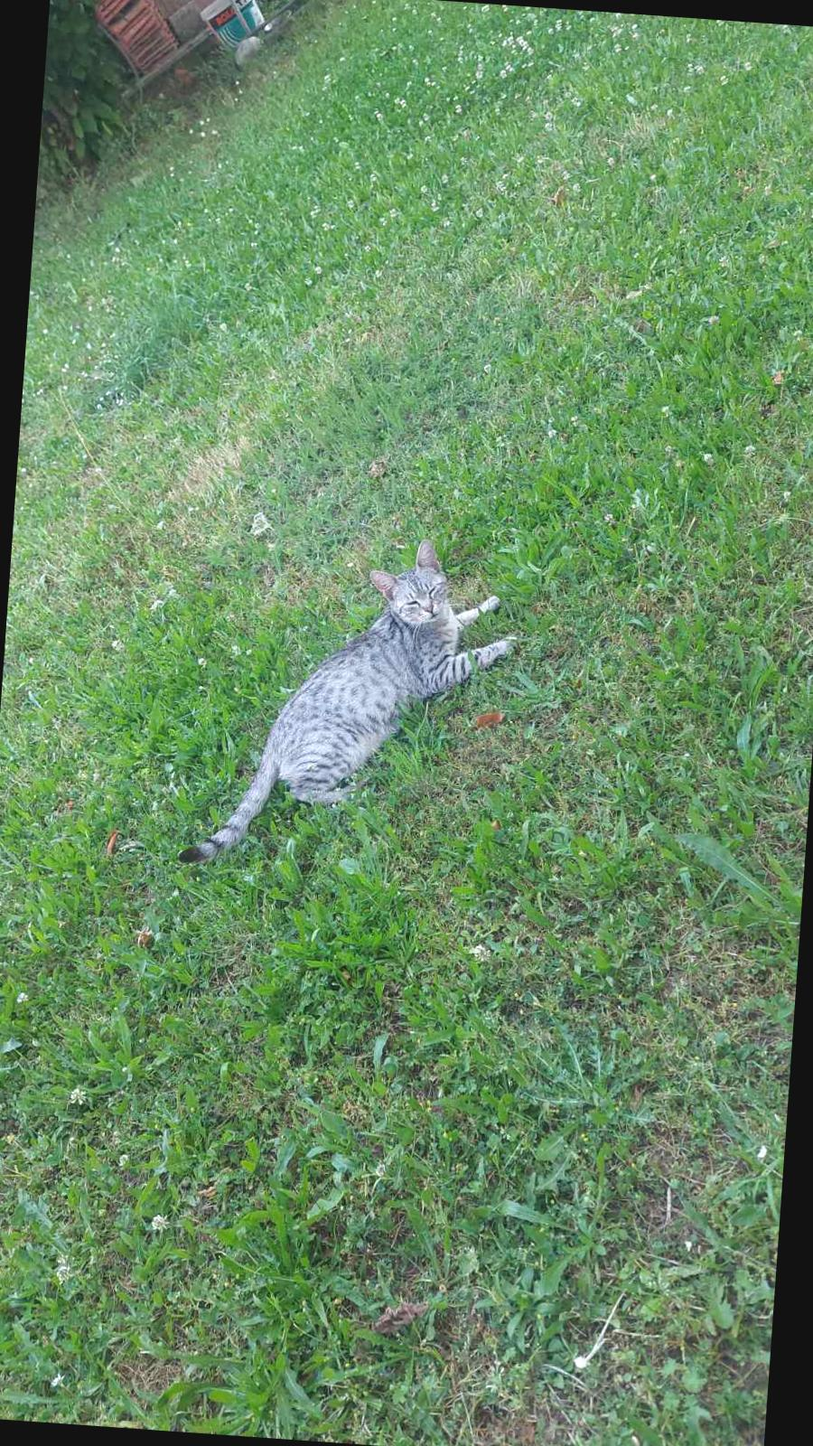macka: (179, 523, 525, 886)
